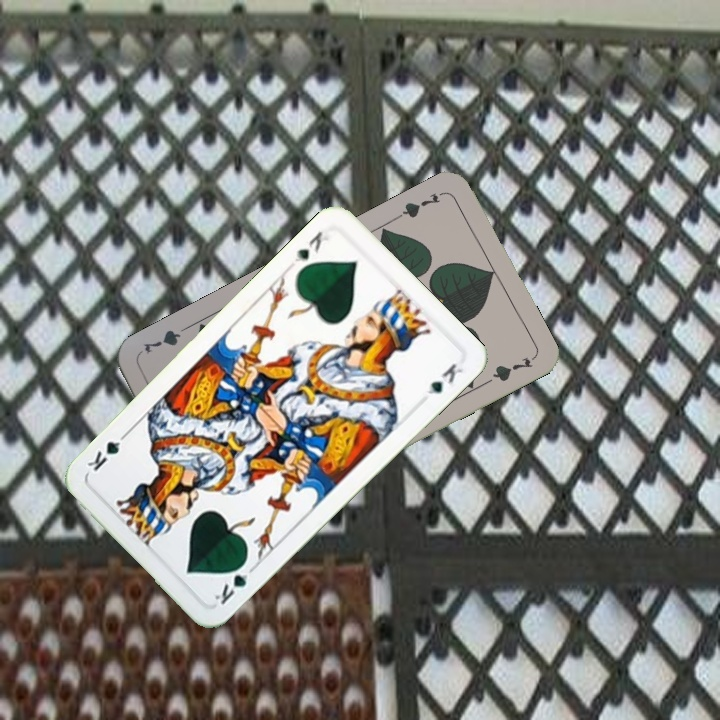G7: (393, 187, 448, 221)
GK: (210, 556, 252, 608), (290, 227, 332, 265)
